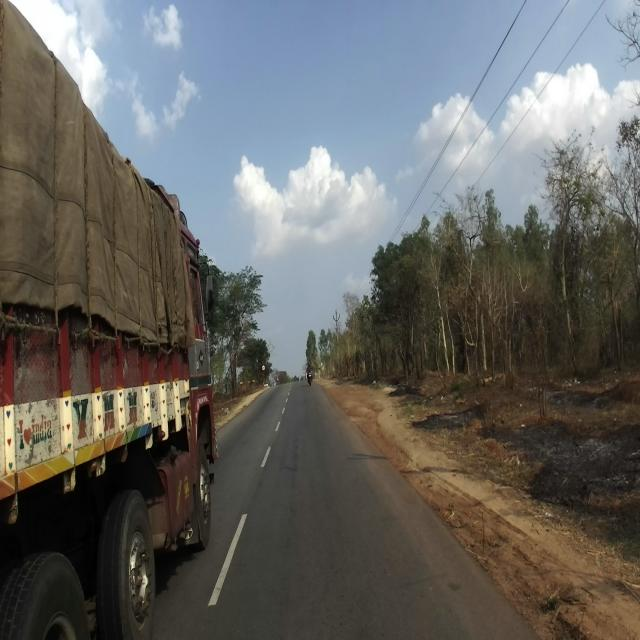truck: (0, 0, 218, 638)
